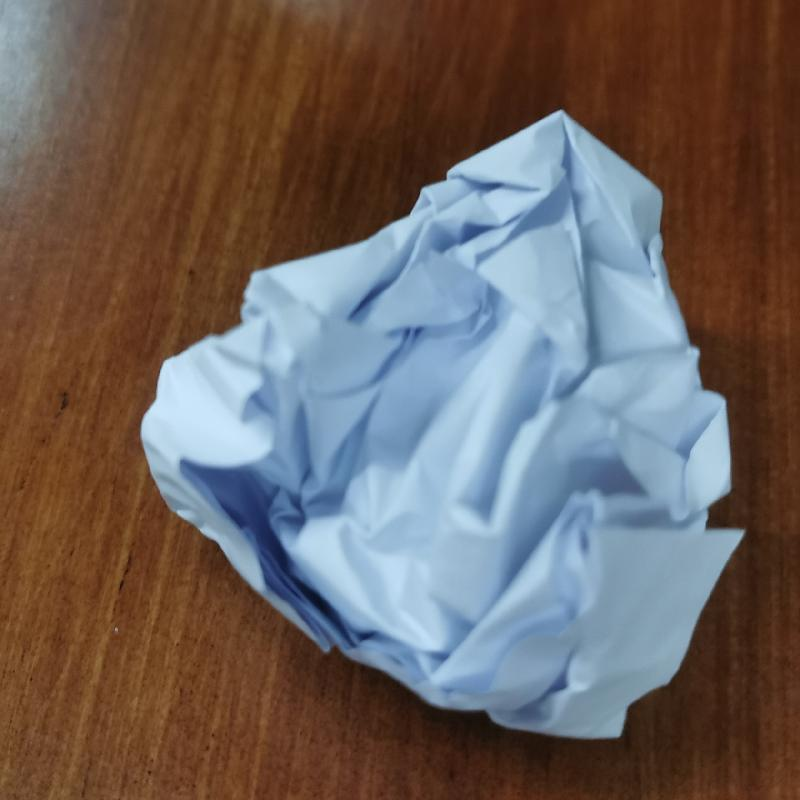spitball: (134, 105, 749, 744)
